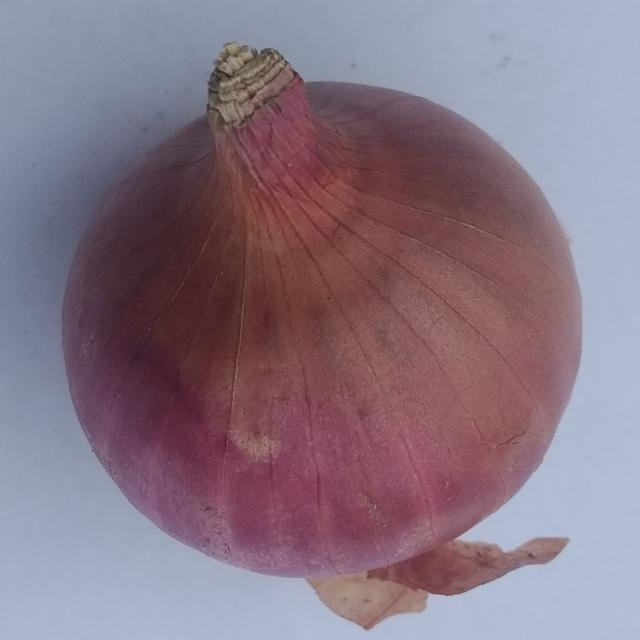onion: (60, 41, 585, 630)
